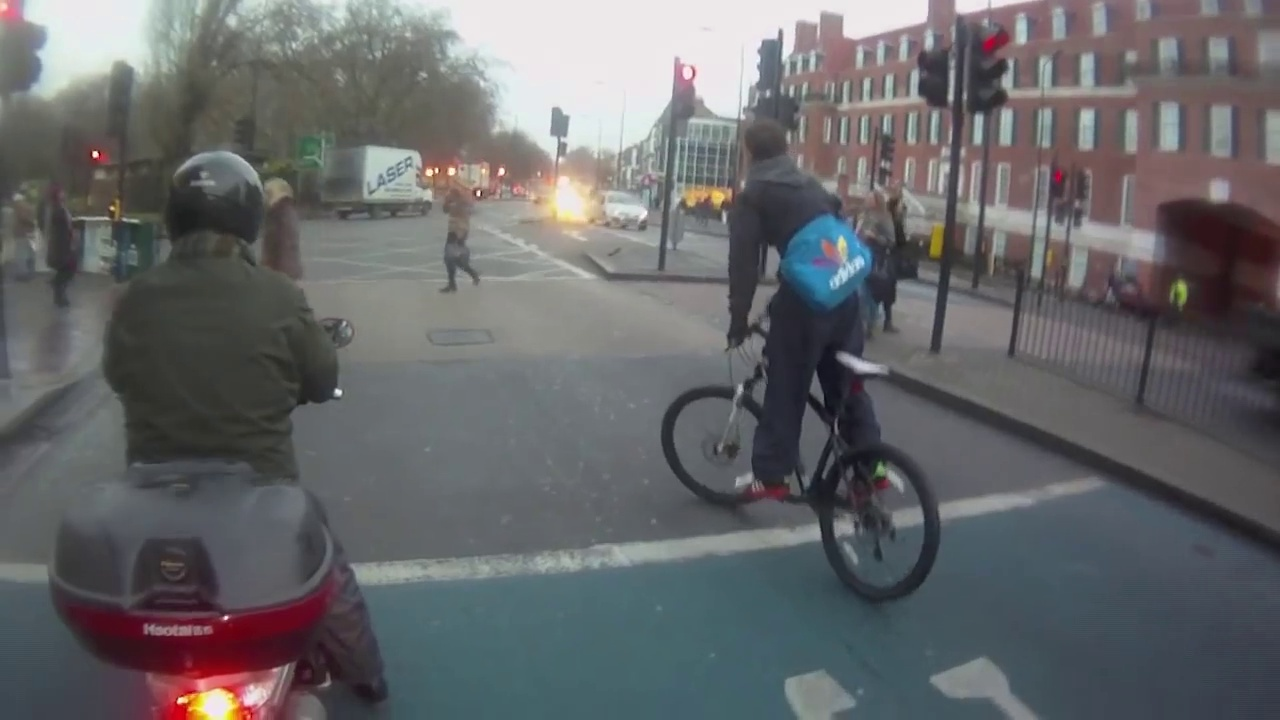cyclist_side: (649, 93, 959, 598)
